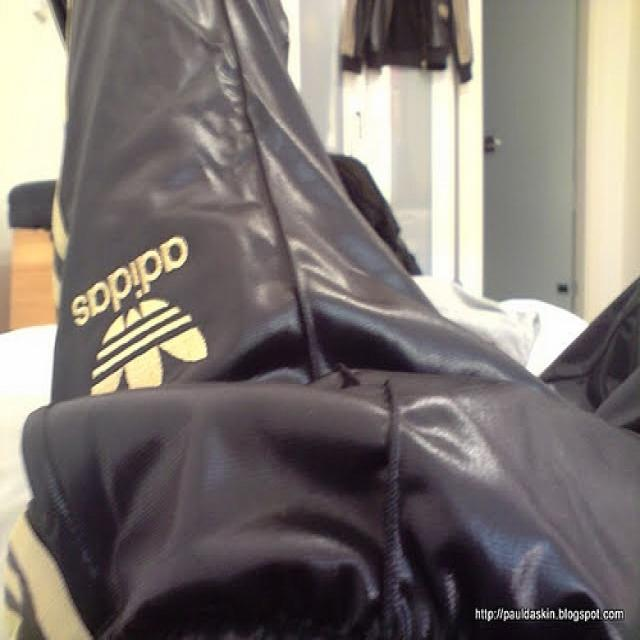adidas: (63, 225, 221, 412)
